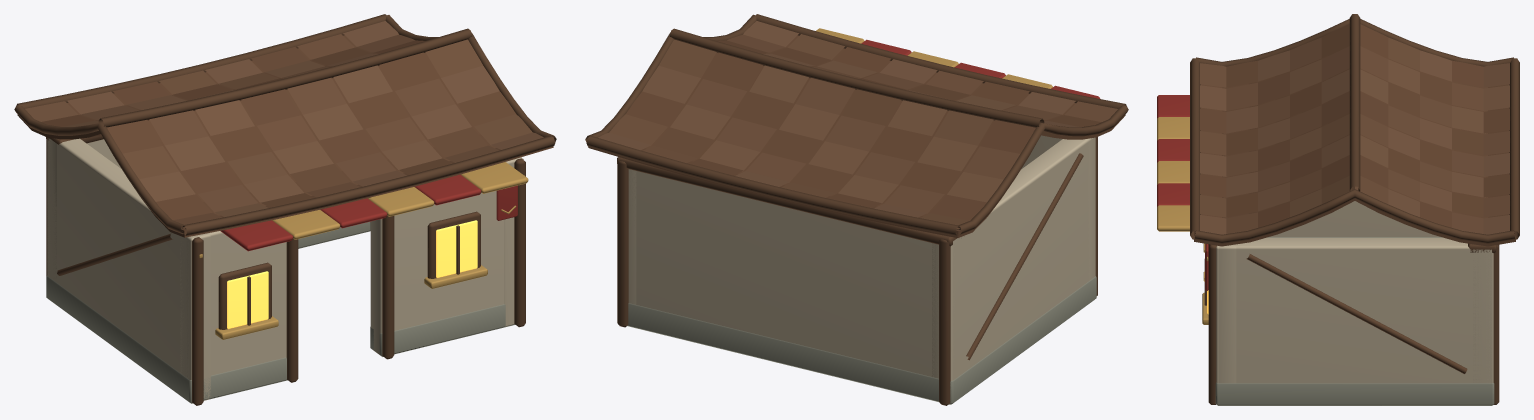
The model's file is architecture-shop.glb.
The picture shows the model from 3 angles, left to right: view 1: azimuth 30°, elevation 25°; view 2: azimuth 150°, elevation 25°; view 3: azimuth 270°, elevation 25°; orthographic projection. The views are drawn at different scales.
Parts seen in each view (by area): view 1: architecture-shop-exterior; view 2: architecture-shop-exterior; view 3: architecture-shop-exterior.
Boxes of the visible parts, left/top/right/bottom form: architecture-shop-exterior: left=14, top=14, right=556, bottom=405; architecture-shop-exterior: left=585, top=14, right=1128, bottom=405; architecture-shop-exterior: left=1157, top=14, right=1519, bottom=405.
Size of the model in its own units: 5.07 by 3.05 by 4.4.
